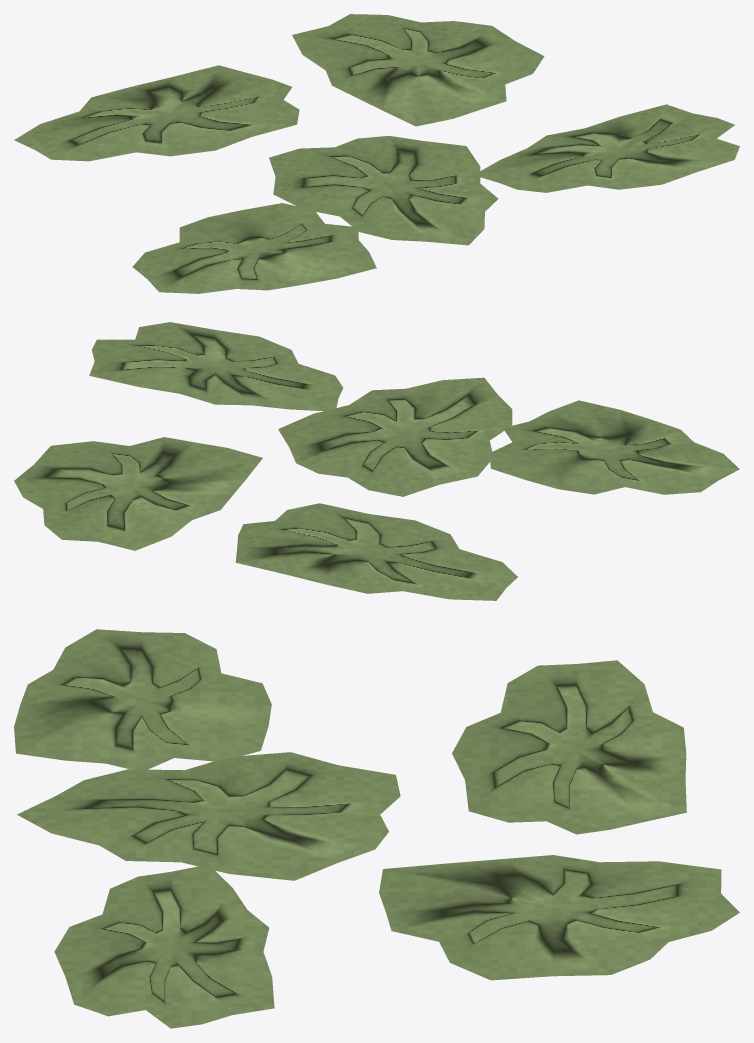
File: 024_ground_moss_archipelago.glb
The picture shows the model from 3 angles, top to bottom: view 1: azimuth 30°, elevation 25°; view 2: azimuth 150°, elevation 25°; view 3: azimuth 270°, elevation 25°; orthographic projection. The views are drawn at different scales.
Visible parts, largest first — view 1: Ground_archipelago; view 2: Ground_archipelago; view 3: Ground_archipelago.
Part boxes in pixels (x1,y1,x2,y2): Ground_archipelago: (14, 14, 739, 293); Ground_archipelago: (14, 322, 739, 600); Ground_archipelago: (14, 629, 739, 1028).
Bounding box in the file's own units: 1.63 × 0.00799 × 1.25.
Materials: 1 (1 with a texture image).
